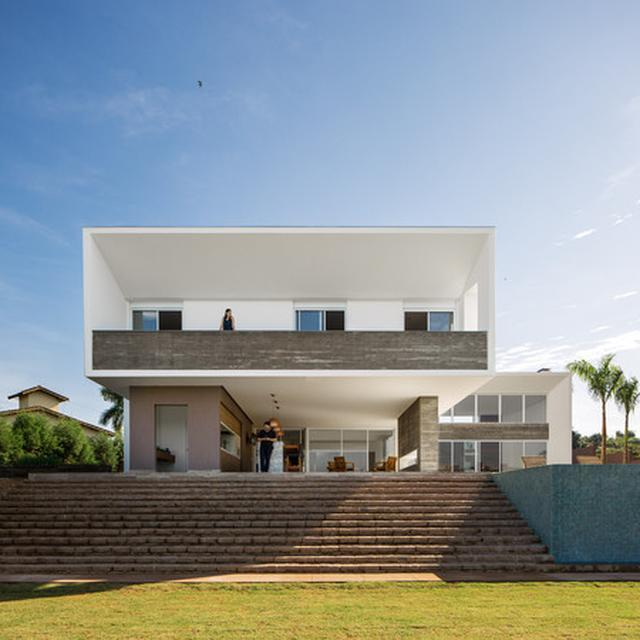building: (82, 225, 576, 471), (2, 377, 118, 458)
